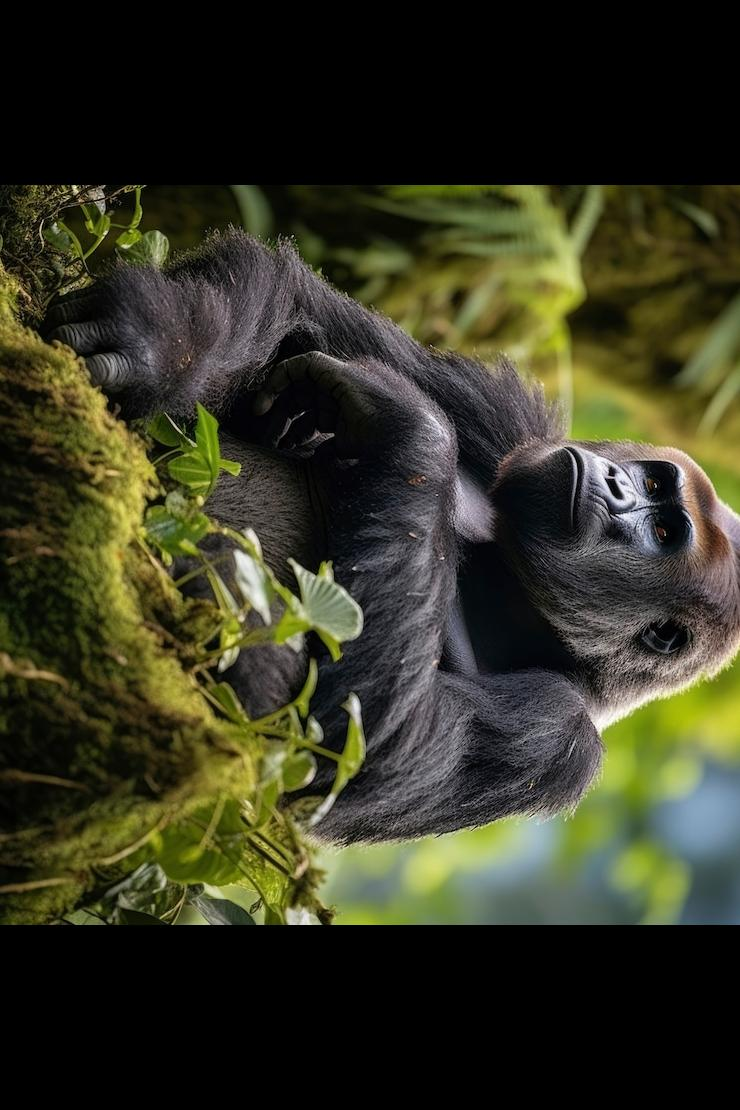gorille_Autres: (22, 208, 740, 925)
